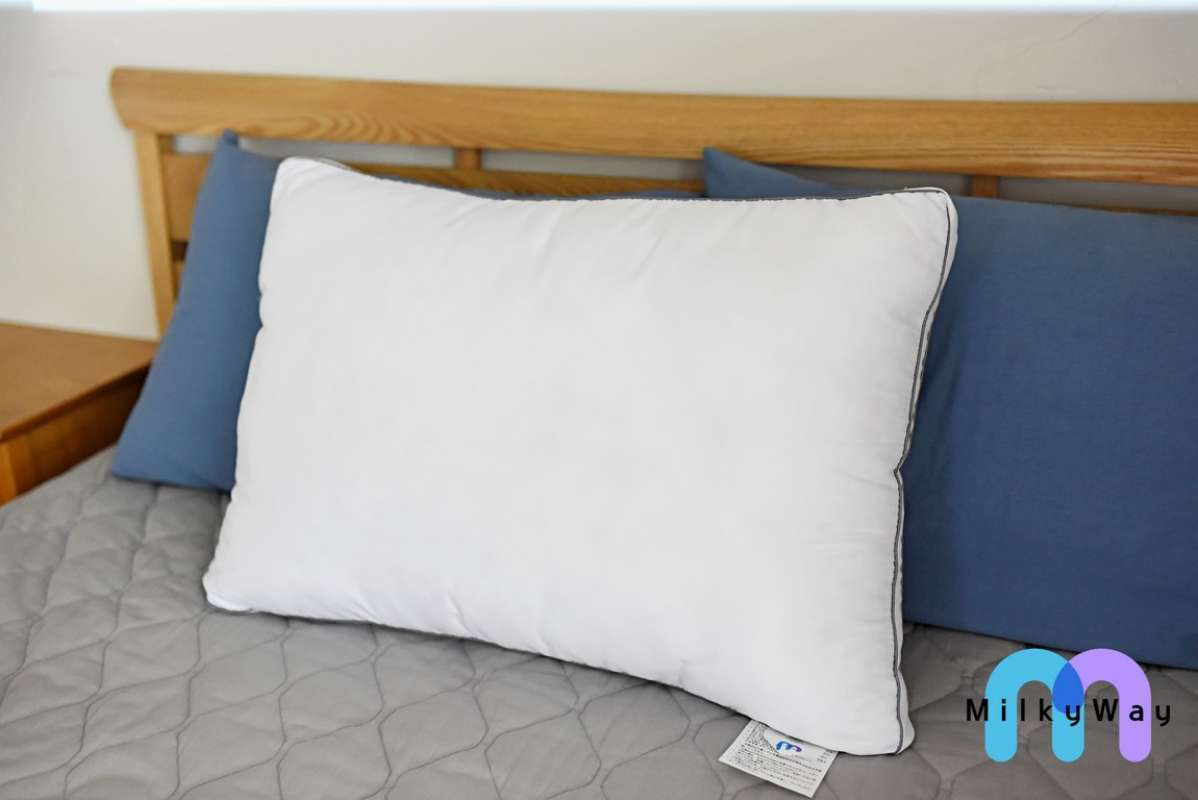bantal: (209, 156, 945, 762)
